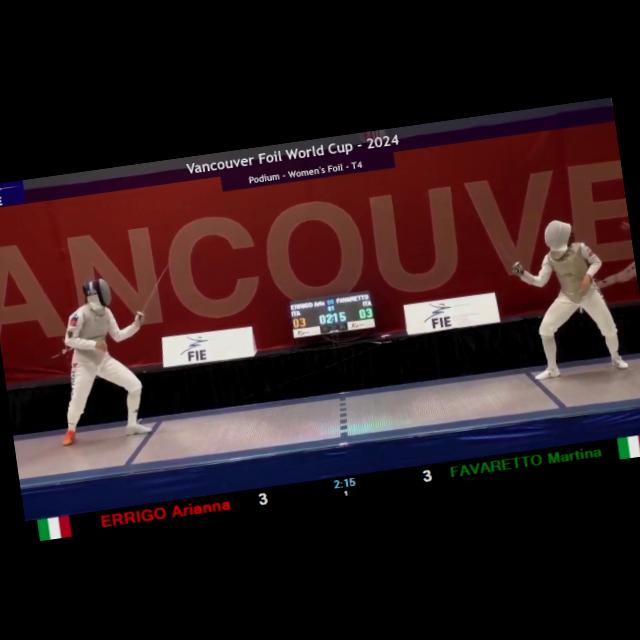blade: (128, 244, 191, 322), (489, 228, 522, 275)
